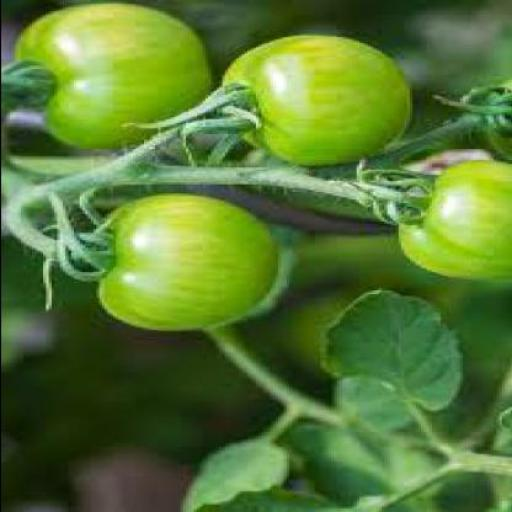biodegradable: (118, 32, 414, 167), (34, 188, 274, 331), (1, 0, 204, 151), (350, 154, 510, 279), (314, 288, 461, 410), (423, 69, 509, 143)
